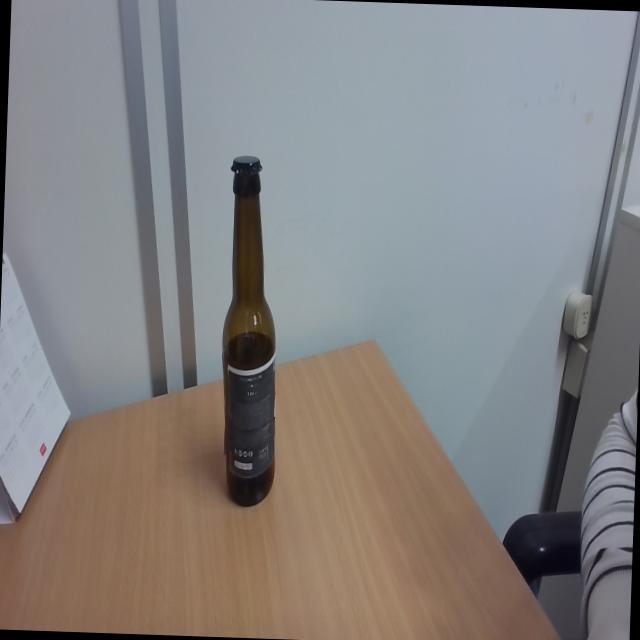Bottle: (214, 152, 284, 507)
Cap: (229, 153, 265, 179)
Label: (226, 358, 274, 481)
